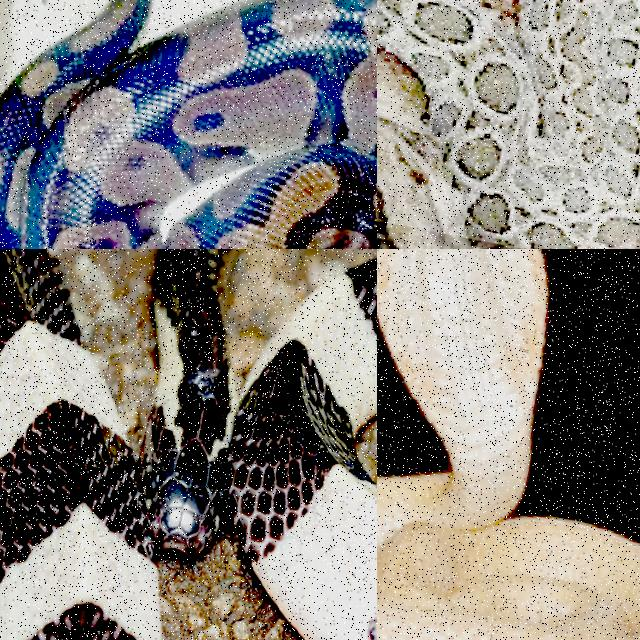Bungarus fasciatus: (0, 249, 376, 639)
Daboia siamensis: (377, 0, 639, 248)
Naja kaouthia: (377, 249, 639, 639)
Python bivittatus: (0, 0, 376, 248)
snake: (0, 249, 376, 639), (377, 249, 639, 639), (0, 0, 376, 248), (377, 0, 639, 248)
